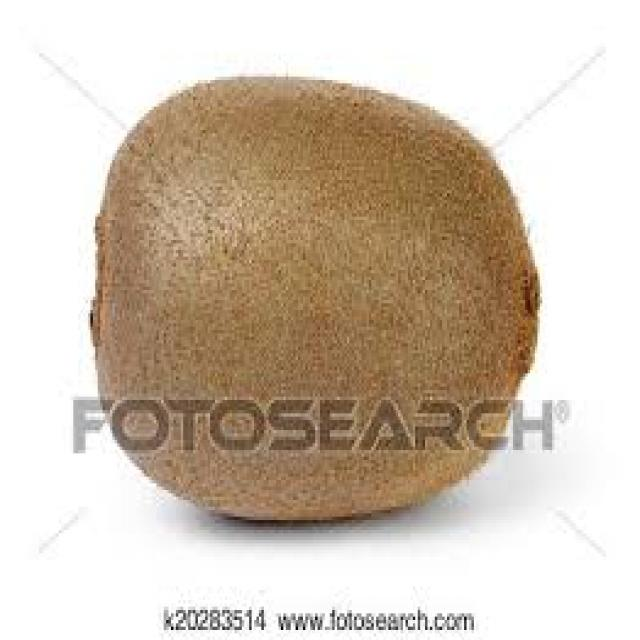organic waste: (85, 67, 538, 520)
